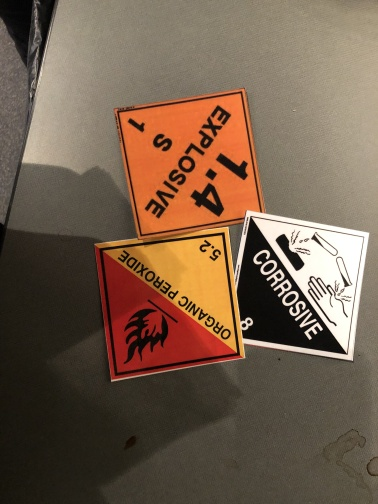Corrosive: (235, 210, 368, 362)
Explosive: (116, 89, 266, 238)
OrganicPeroxide: (95, 227, 244, 380)
